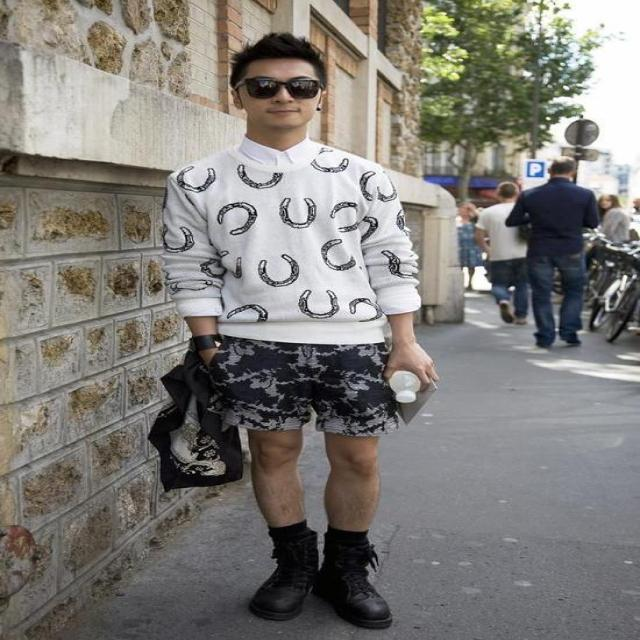short: (204, 319, 401, 436)
sweater: (162, 144, 424, 342)
